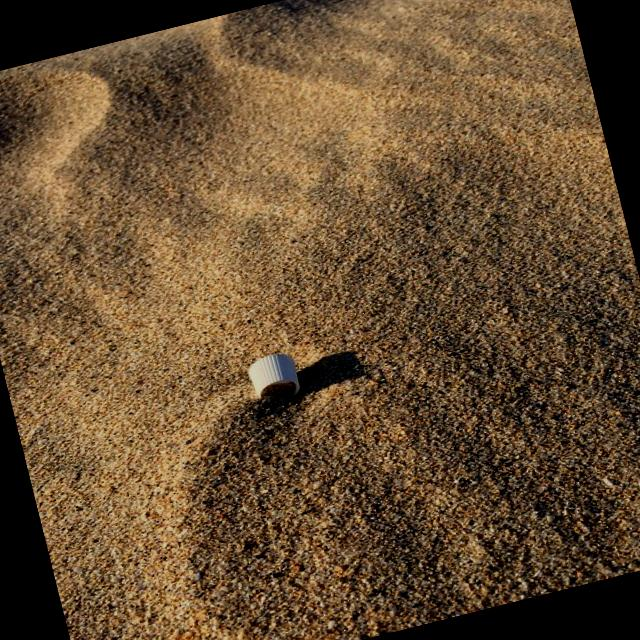Trash: (244, 348, 304, 404)
